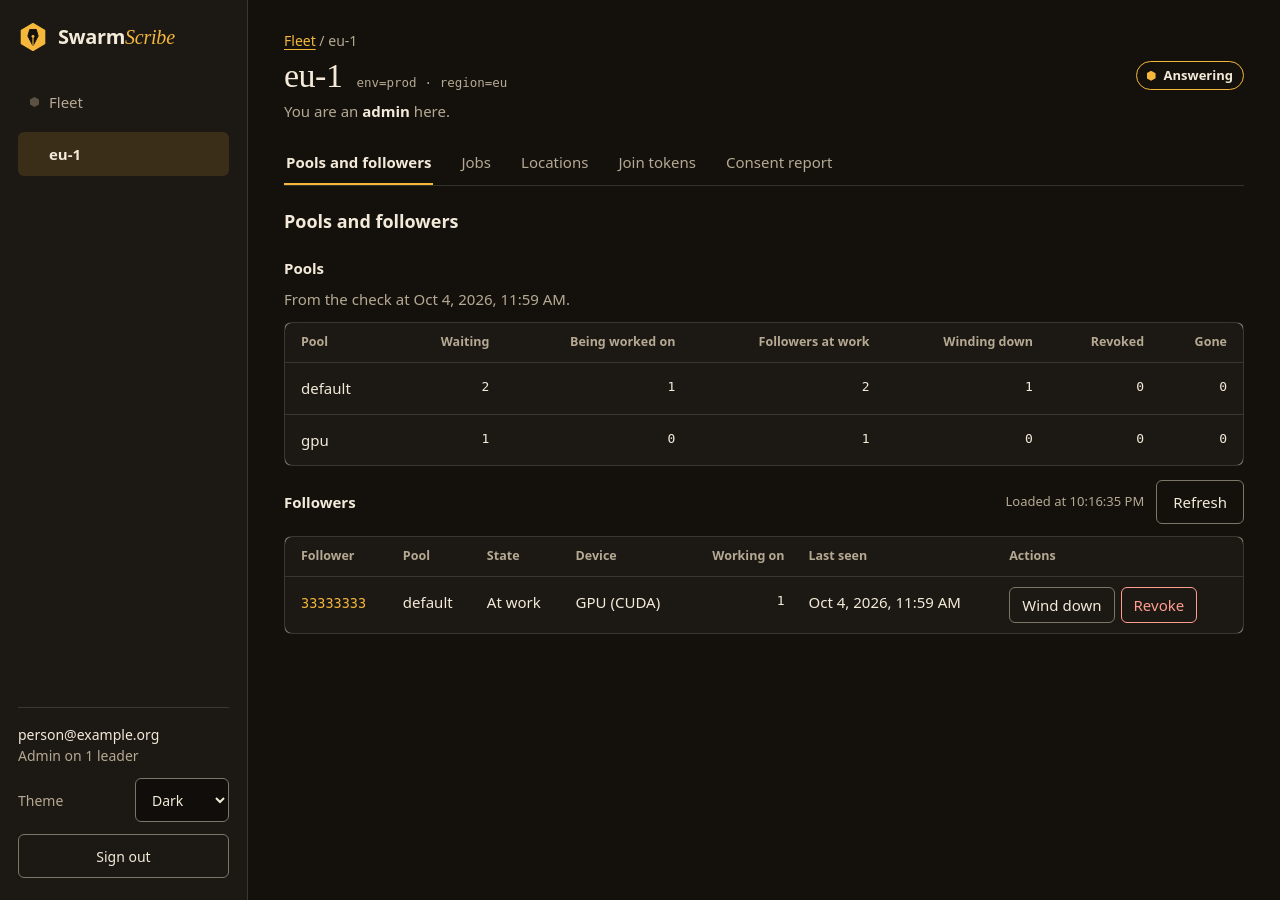
Test: pools and followers tab › asks before revoking, then reports the released jobs and refreshes
Click the button with aria-label "Revoke follower 33333333": (1159, 605) [1120, 587, 1197, 623]
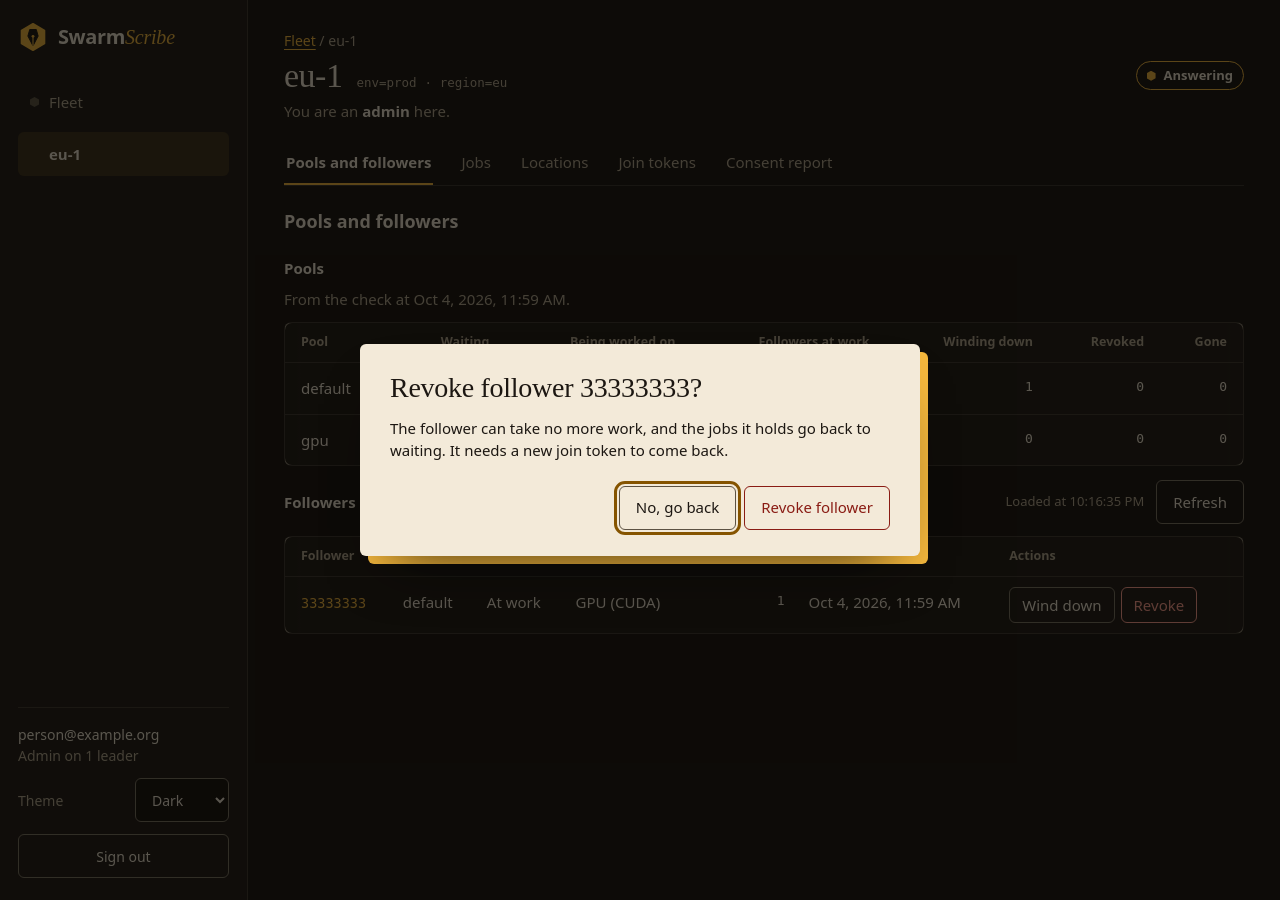
Click the button "Revoke follower": (817, 508) [744, 486, 890, 530]
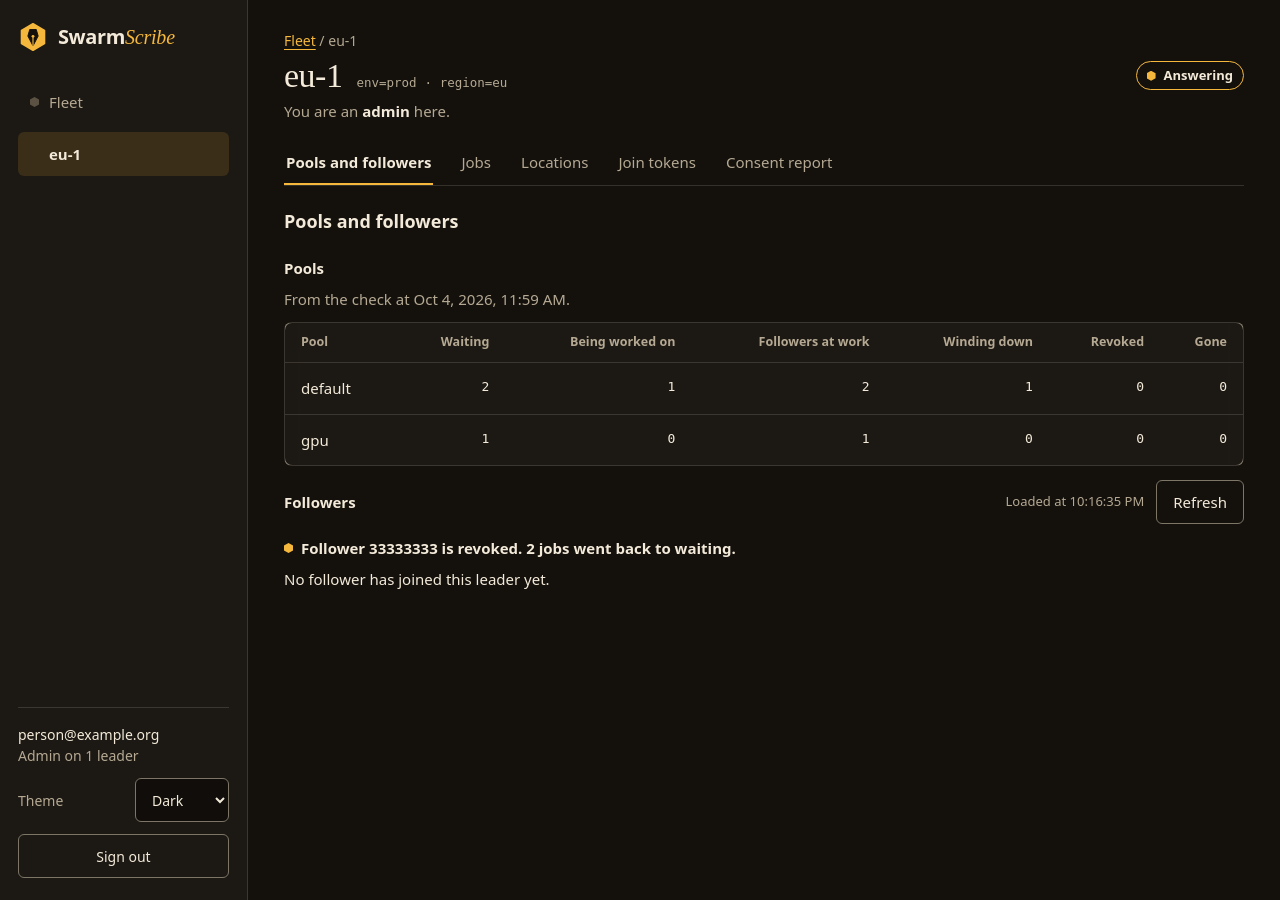
Now the text "Follower 33333333 is revoked. 2 jobs went back to waiting." is shown, box [301, 538, 736, 558]
Now the dialog is gone
Now the heading "Revoke follower 33333333" is gone
